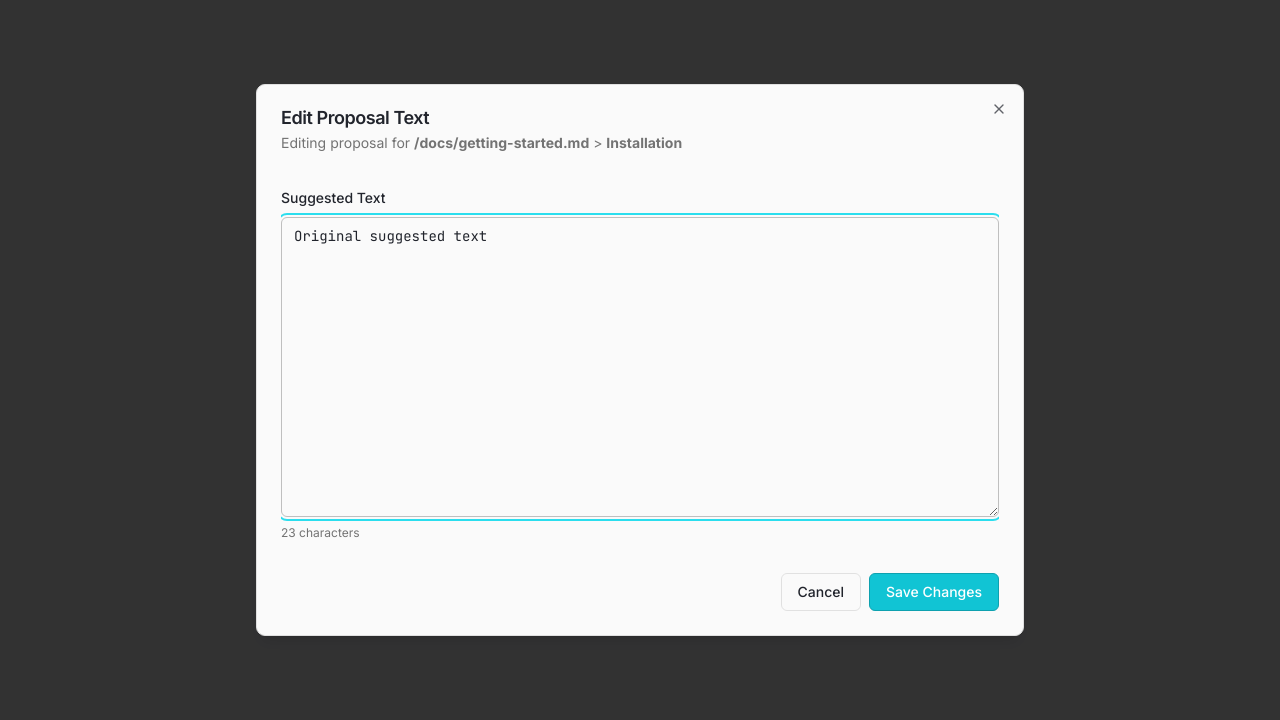
Test case: EditProposalModal › should disable save button when text is empty
Clear the text box. click: coordinates (640, 367)
box: [281,217,999,517]
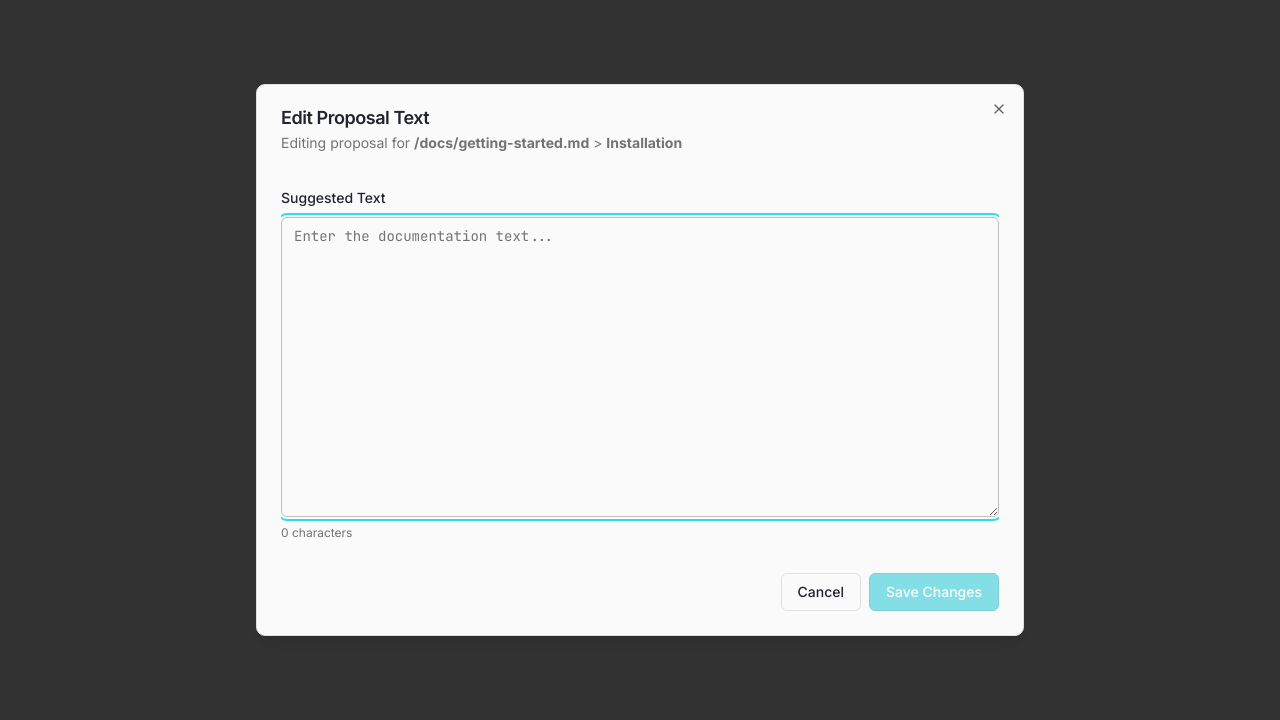
Now the button "Save Changes" is disabled, box [869,573,999,611]
